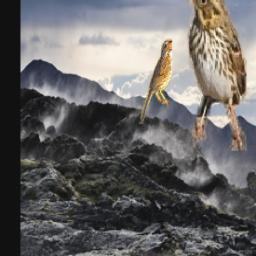Sparrow: (182, 0, 247, 152), (139, 40, 172, 125)
